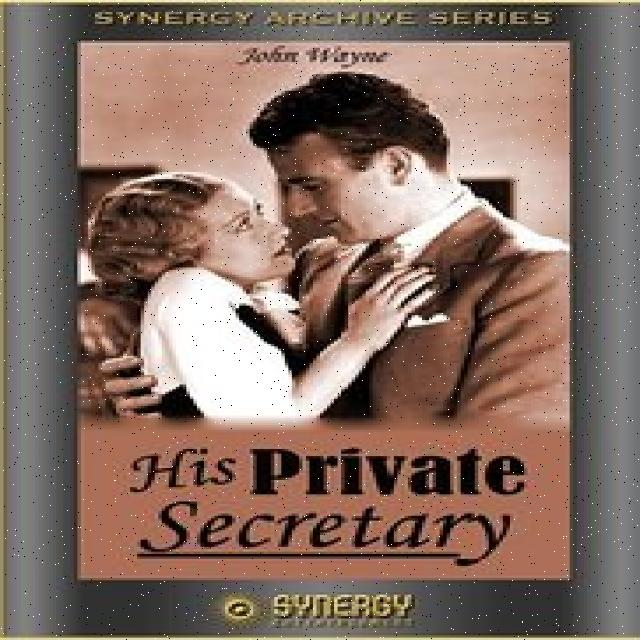movie-judul: (83, 425, 565, 579), (80, 0, 580, 76)
picture: (79, 83, 577, 424)
